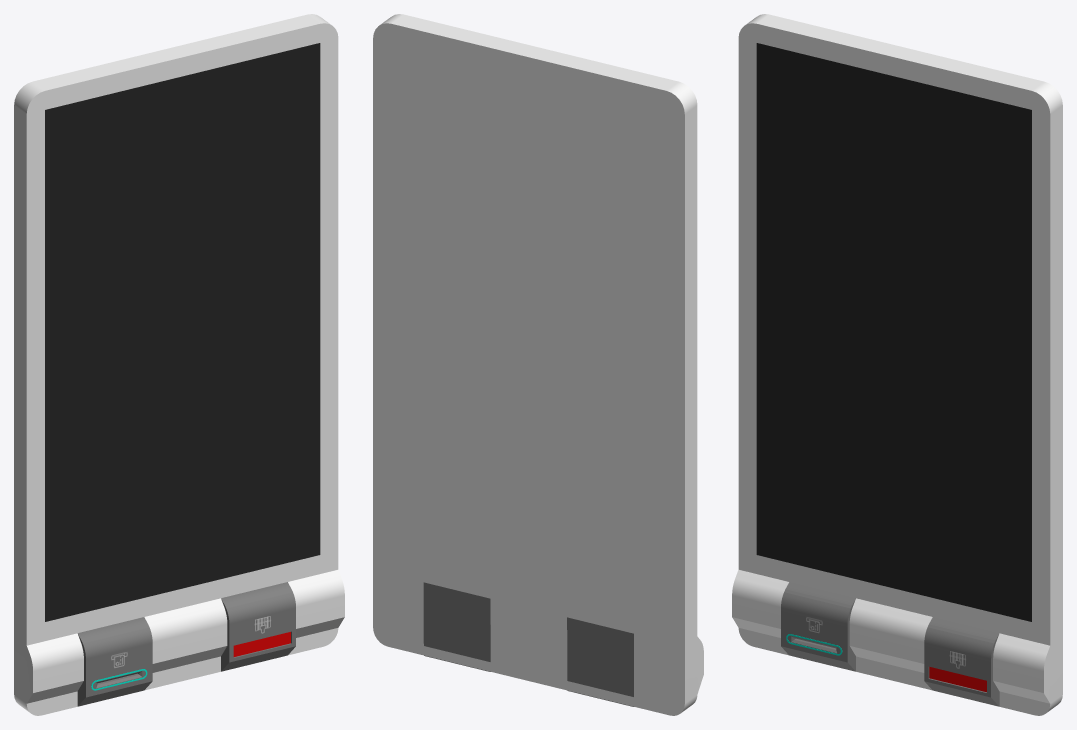
Rendered from IC_Card_Reader02.fbx.
The picture shows the model from 3 angles, left to right: view 1: azimuth 30°, elevation 25°; view 2: azimuth 150°, elevation 25°; view 3: azimuth 330°, elevation 25°; orthographic projection.
Visible parts, largest first — view 1: A, B; view 2: A, B; view 3: A, B.
Part boxes in pixels (<box>): A: <box>14,14,338,645</box>; B: <box>14,569,344,715</box>; A: <box>373,14,697,645</box>; B: <box>373,569,703,715</box>; A: <box>738,14,1062,645</box>; B: <box>732,569,1062,715</box>.
Bounding box in the file's own units: 44.42 × 84.99 × 5.26.
Materials: 1 (1 with a texture image).
